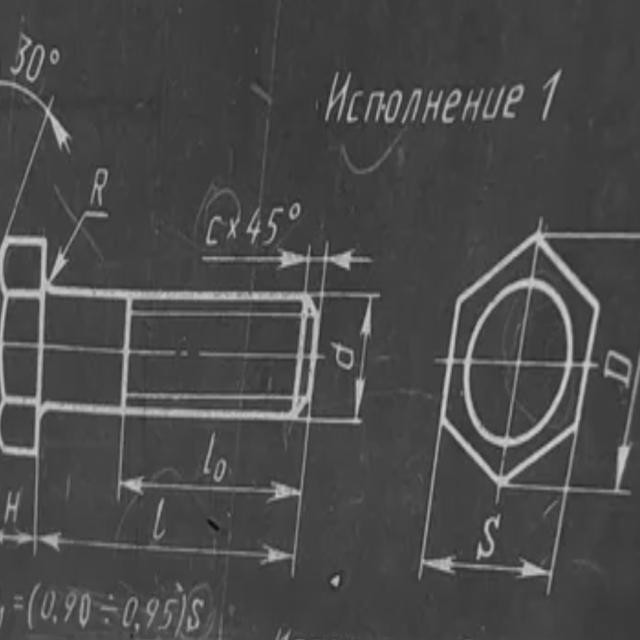marking_line: (33, 527, 292, 568), (612, 353, 640, 490), (122, 480, 302, 500), (427, 556, 547, 581), (200, 246, 308, 272), (353, 302, 375, 413), (329, 242, 373, 272), (1, 528, 33, 551)
numeric: (246, 203, 282, 244)
special_symbol: (0, 78, 73, 230), (51, 210, 110, 284)
